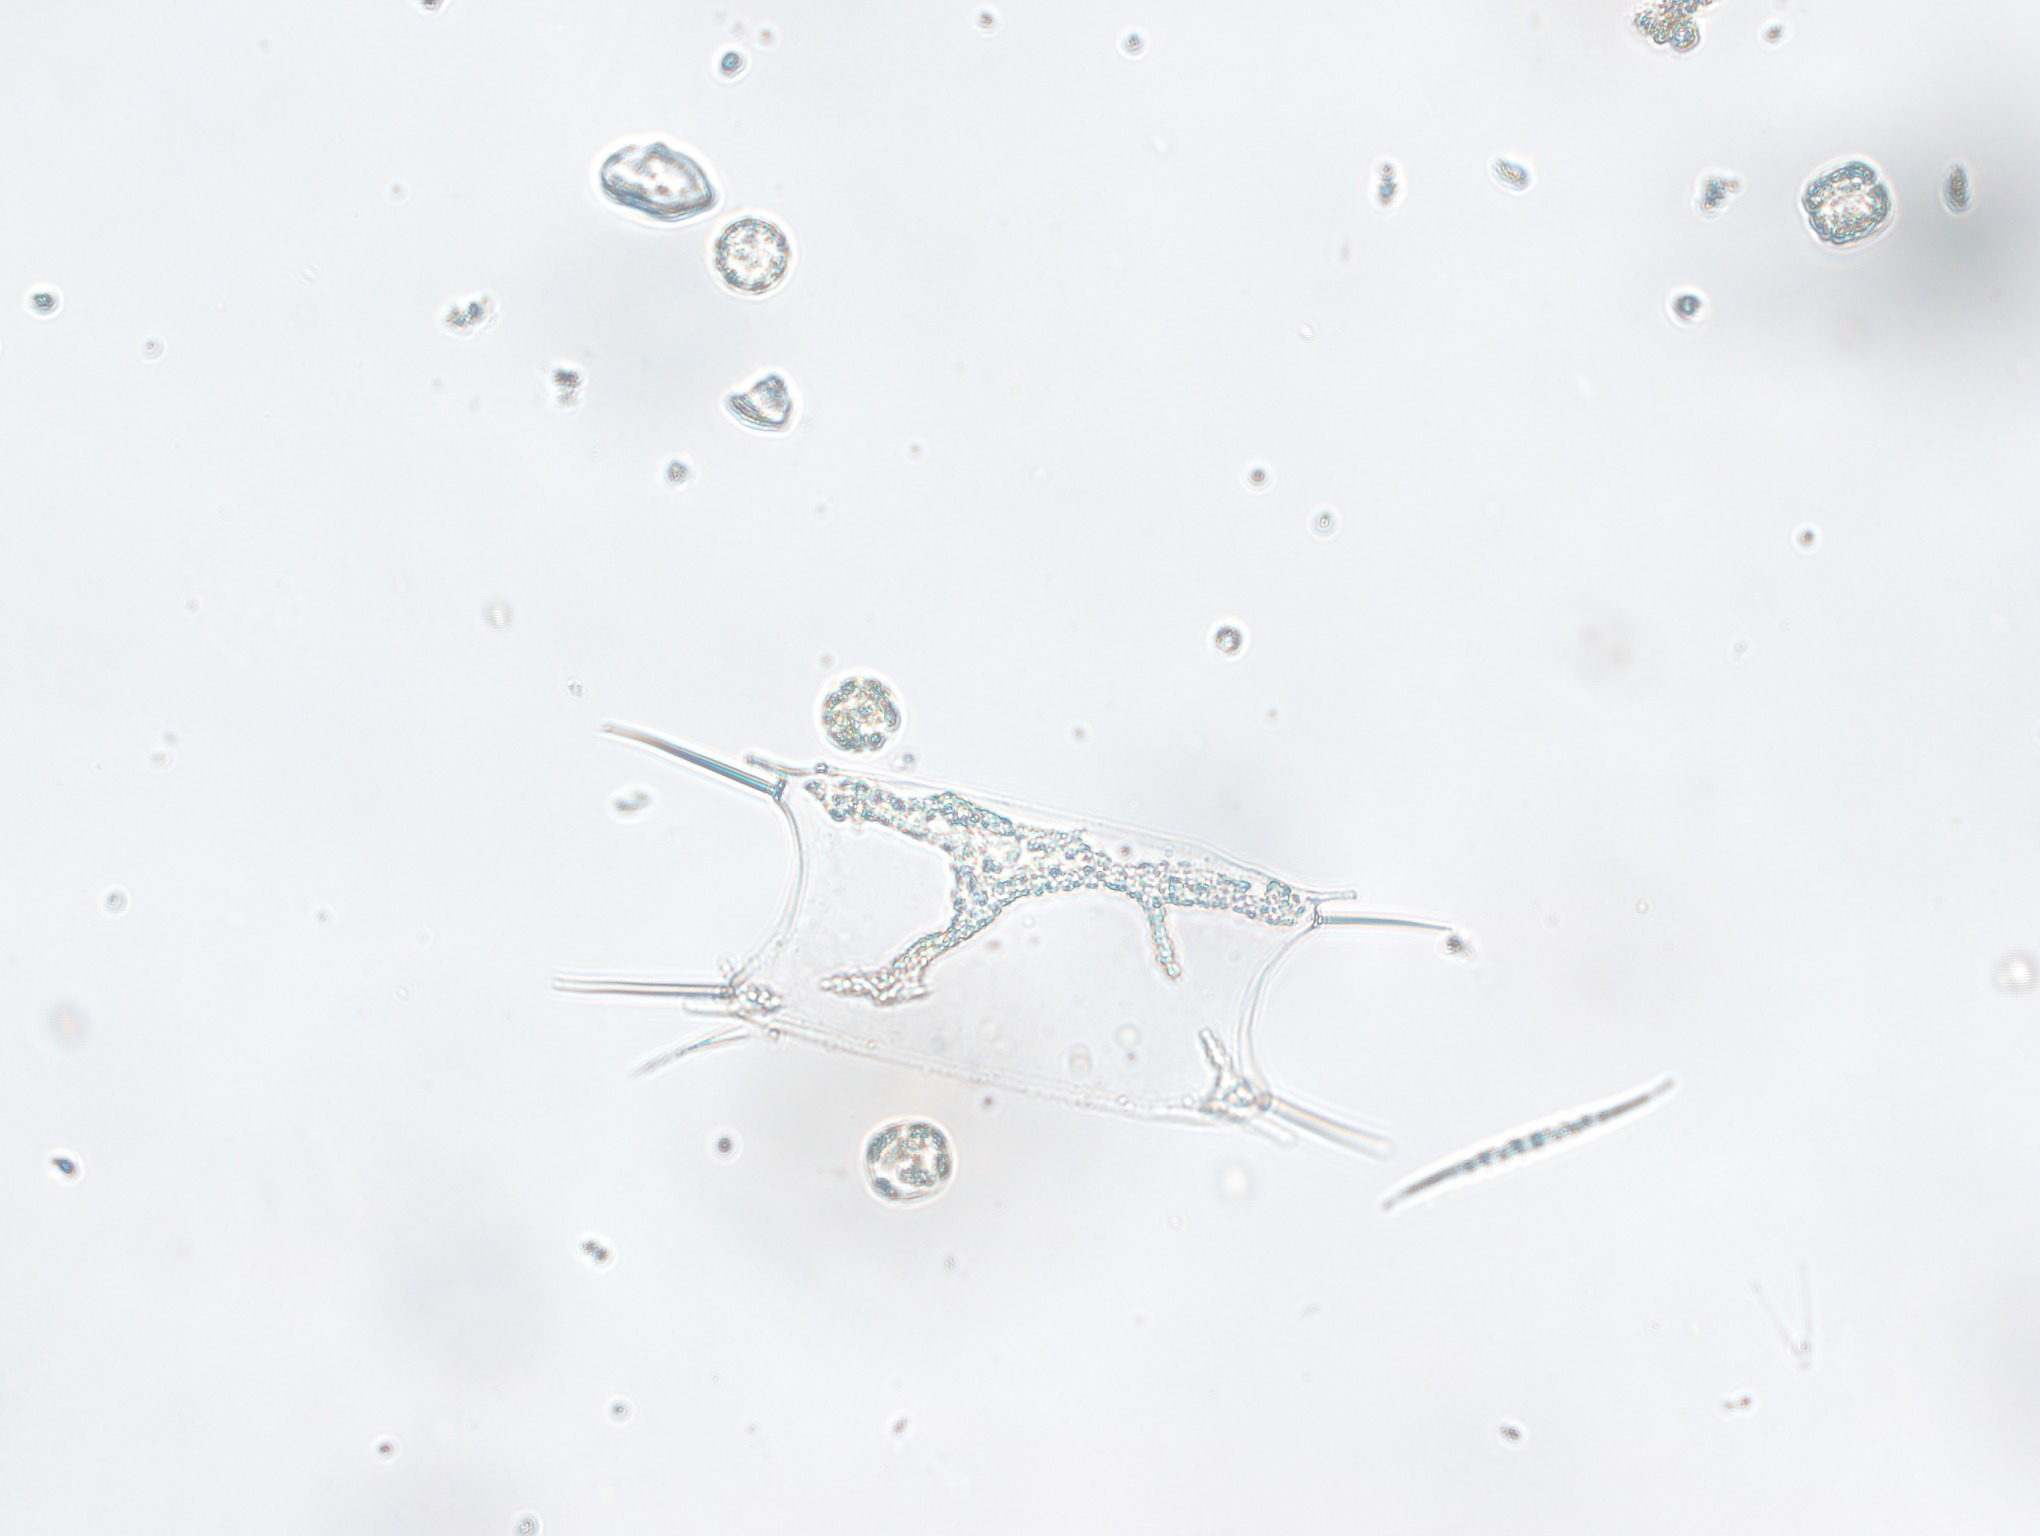biddulphia: (555, 703, 1479, 1200)
pleurosigma pelagicum: (1376, 1065, 1690, 1244)
